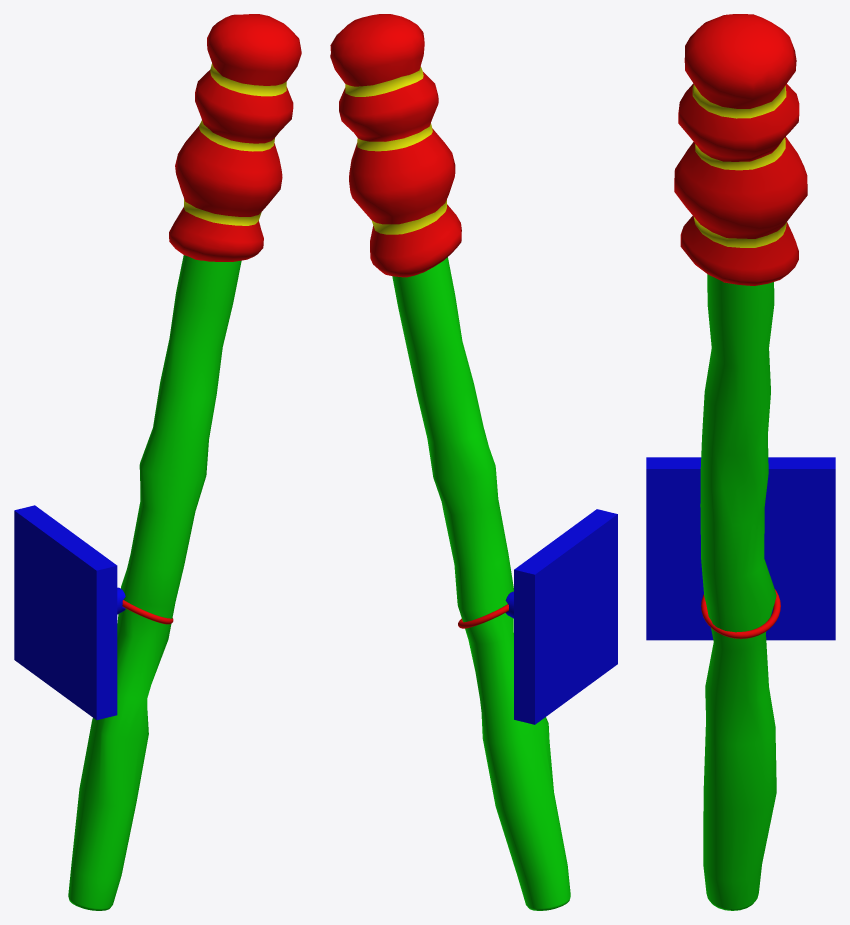
The model's file is porte_torche_wth_torche.fbx.
3 views of the same model, side by side, from view 1: azimuth 30°, elevation 25°; view 2: azimuth 150°, elevation 25°; view 3: azimuth 270°, elevation 25° (orthographic). The views are drawn at different scales.
Parts seen in each view (by area): view 1: porte_torche3; view 2: porte_torche3; view 3: porte_torche3.
Boxes of the visible parts, left/top/right/bottom form: porte_torche3: left=14, top=14, right=301, bottom=910; porte_torche3: left=330, top=14, right=617, bottom=910; porte_torche3: left=646, top=14, right=835, bottom=910.
Size of the model in its own units: 0.2921 by 0.9853 by 0.174.
